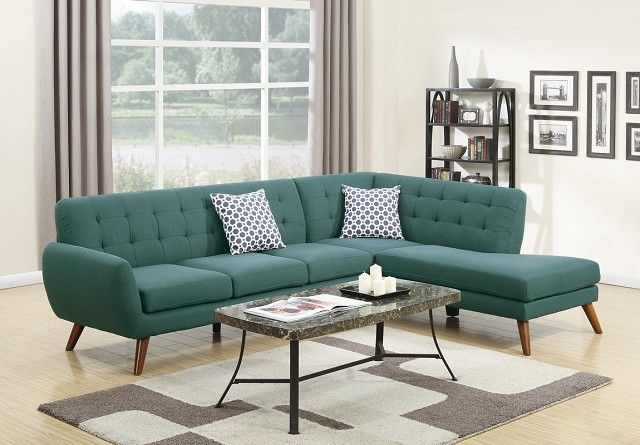Carving Chair: (40, 166, 611, 364)
Carving Table: (199, 279, 474, 441)
